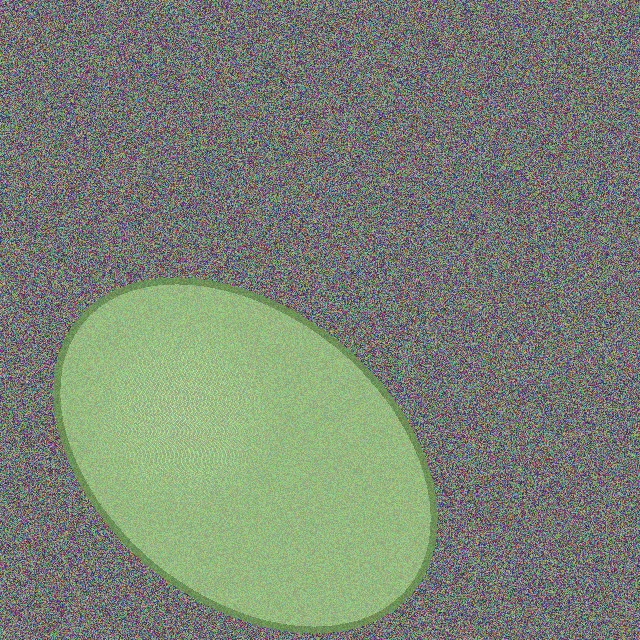lens: (56, 281, 434, 629)
